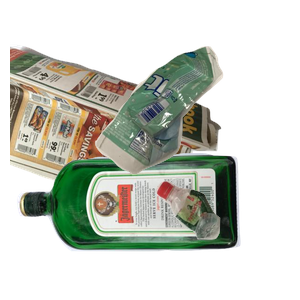glass: (14, 150, 247, 300)
paper: (10, 42, 224, 222)
plastic: (153, 178, 300, 300)
trash: (92, 44, 300, 211)
